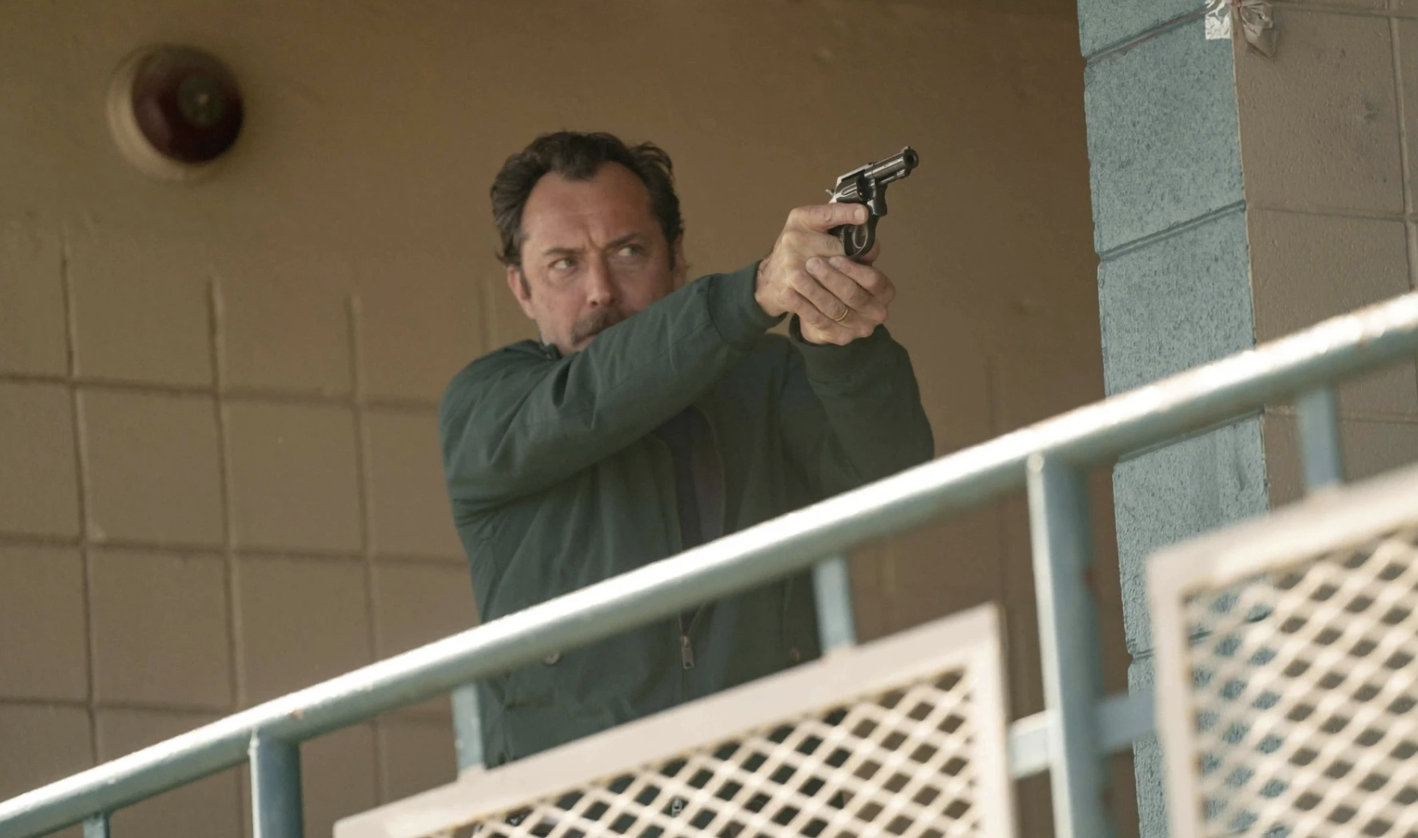gun_011: (817, 135, 921, 270)
